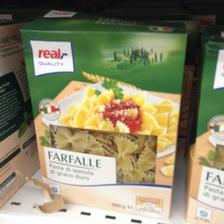Nudeln: (18, 10, 186, 220)
